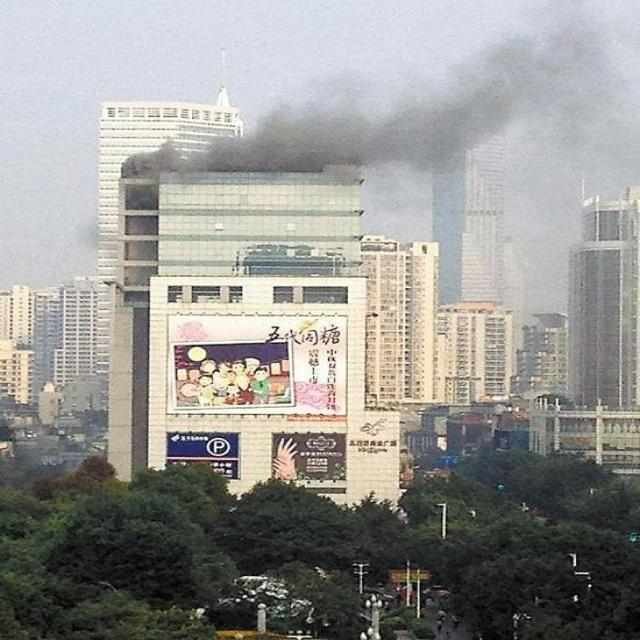Smoke: (117, 28, 640, 179)
